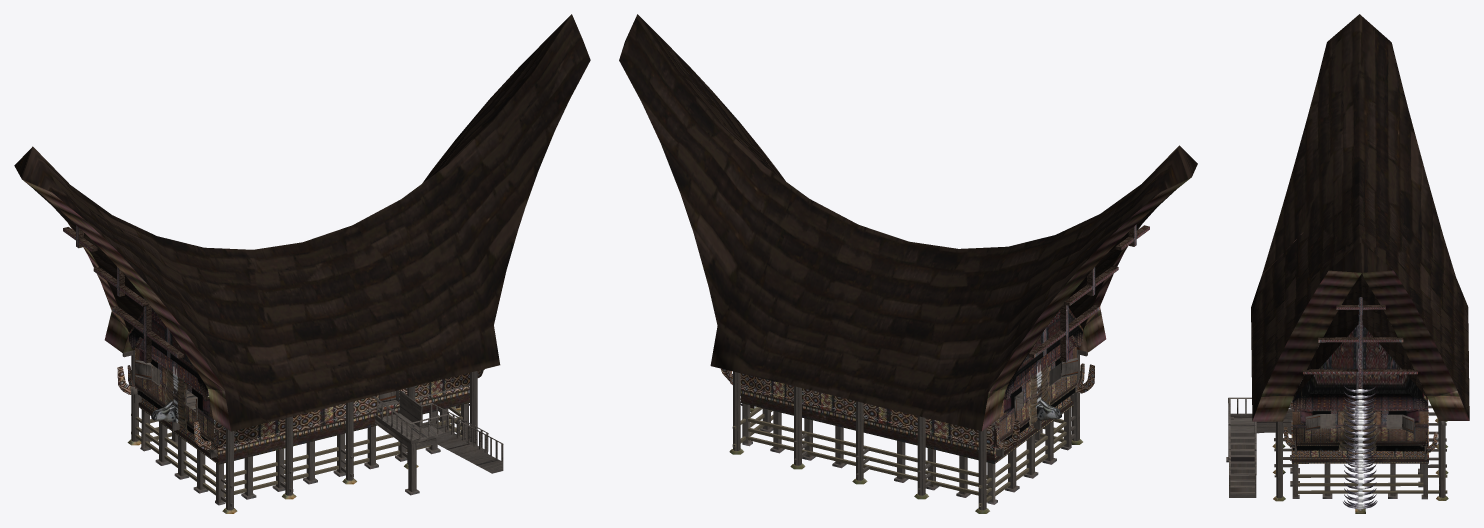
The model's file is RUMAH toraja.fbx.
The picture shows the model from 3 angles, left to right: view 1: azimuth 30°, elevation 25°; view 2: azimuth 150°, elevation 25°; view 3: azimuth 270°, elevation 25°; orthographic projection. The views are drawn at different scales.
Parts seen in each view (by area): view 1: Toraja1; view 2: Toraja1; view 3: Toraja1.
Part boxes in pixels (x1,y1,x2,y2): Toraja1: [14, 14, 590, 513]; Toraja1: [619, 14, 1197, 513]; Toraja1: [1226, 14, 1469, 513].
Bounding box in the file's own units: 3276 × 2040 × 1414.
